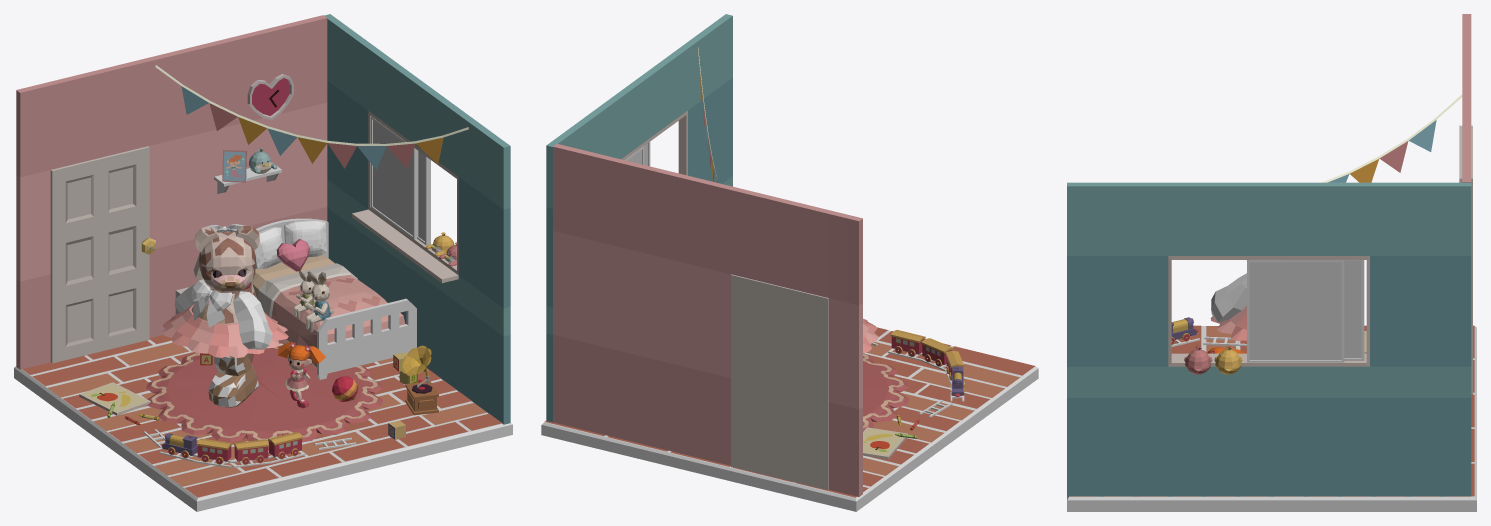
The model's file is 0009_toyStory.fbx.
The picture shows the model from 3 angles, left to right: view 1: azimuth 30°, elevation 25°; view 2: azimuth 150°, elevation 25°; view 3: azimuth 270°, elevation 25°; orthographic projection. The views are drawn at different scales.
Visible parts, largest first — view 1: wall, wall2, door, plateUp, plateBase, frame (×4), rug, bed_main, rug2, body (×2), garand, glass (×2) (+16 smaller); view 2: wall, door, wall2, plateBase, plateUp, rug, drawing, Toybox_sub_Red; view 3: wall2, glass (×2), plateBase, plateUp, frame (×2), garand, wall, leftArm, door, skirt, Penguin2, Penguin3.
Part boxes in pixels (box(x1,y1,x2,y2)): wall: box(16, 15, 327, 369); wall2: box(324, 14, 510, 424); door: box(50, 146, 155, 363); plateUp: box(22, 335, 501, 497); plateBase: box(14, 339, 512, 511); frame (×4): box(222, 116, 430, 379); rug: box(146, 353, 317, 443); bed_main: box(252, 255, 405, 368); rug2: box(251, 346, 383, 434); body (×2): box(191, 226, 259, 363); garand: box(155, 65, 468, 169); glass (×2): box(373, 120, 424, 241); wall: box(553, 144, 862, 496); door: box(731, 274, 828, 490); wall2: box(546, 14, 732, 422); plateBase: box(541, 330, 1038, 511); plateUp: box(544, 327, 1034, 497); rug: box(863, 353, 909, 431); drawing: box(863, 427, 907, 459); Toybox_sub_Red: box(890, 330, 925, 354); wall2: box(1067, 182, 1471, 496); glass (×2): box(1249, 260, 1361, 359); plateBase: box(1067, 326, 1476, 511); plateUp: box(1070, 325, 1474, 496); frame (×2): box(1247, 260, 1364, 362); garand: box(1322, 94, 1462, 182); wall: box(1462, 14, 1471, 182); leftArm: box(1211, 273, 1246, 321); door: box(1459, 125, 1472, 394); skirt: box(1210, 306, 1246, 340); Penguin2: box(1214, 345, 1242, 374); Penguin3: box(1184, 345, 1212, 374).
Size of the model in its own units: 8.46 by 7.09 by 8.11.
